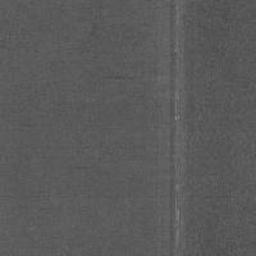Welding line: (171, 0, 182, 256)
